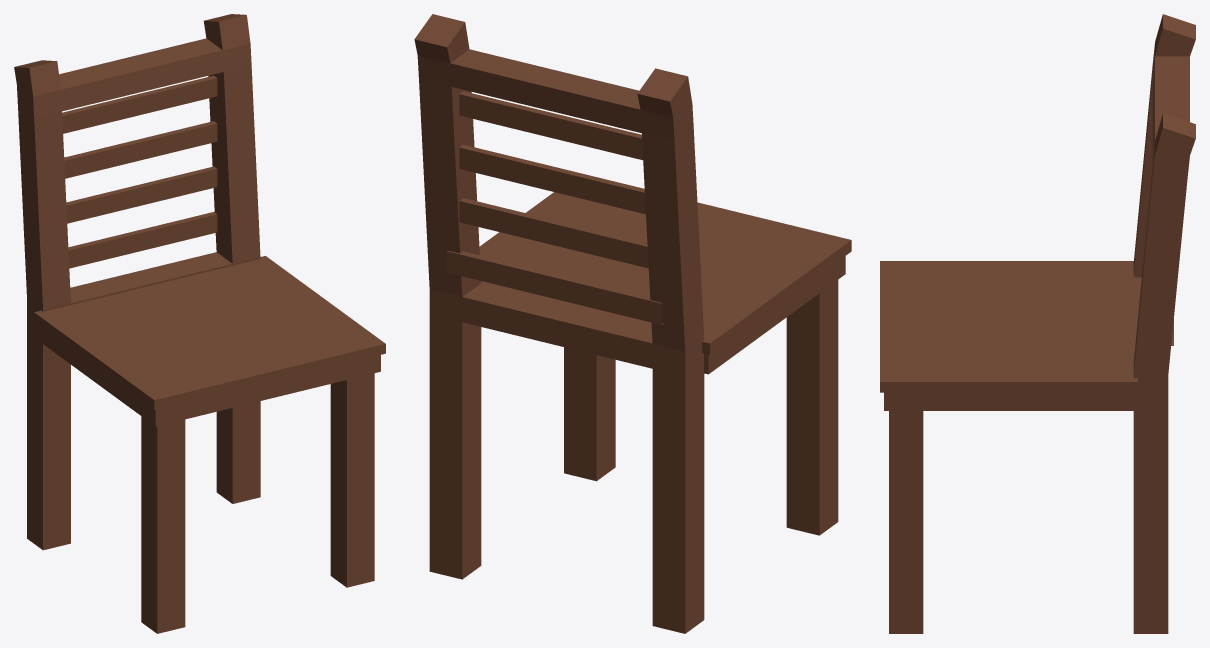
File: Prop_Chair_03.fbx
3 renders of one model, left to right at view 1: azimuth 30°, elevation 25°; view 2: azimuth 150°, elevation 25°; view 3: azimuth 270°, elevation 25°, orthographic. The views are drawn at different scales.
Parts seen in each view (by area): view 1: Prop_Chair_03; view 2: Prop_Chair_03; view 3: Prop_Chair_03.
Part boxes in pixels (box(x1,y1,x2,y2)): Prop_Chair_03: box(14, 14, 385, 633); Prop_Chair_03: box(414, 14, 851, 633); Prop_Chair_03: box(880, 14, 1195, 633).
Size of the model in its own units: 51.38 by 100 by 56.63.
